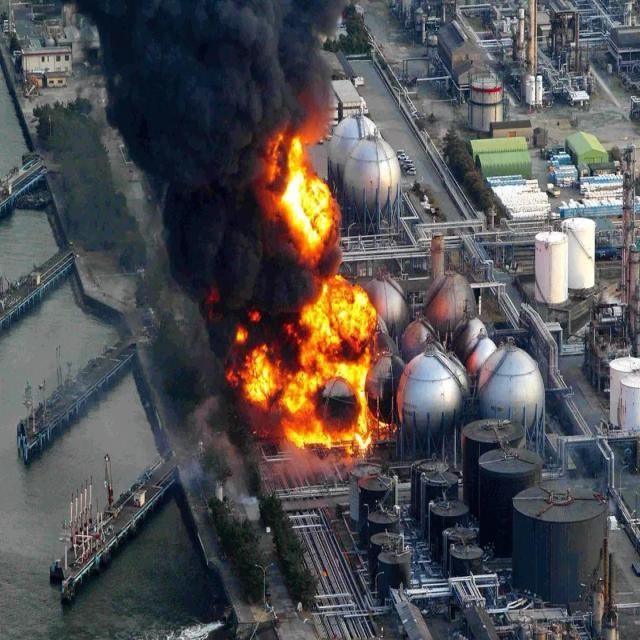Fire: (230, 274, 378, 446), (266, 132, 339, 270)
Smoke: (74, 0, 348, 364)
